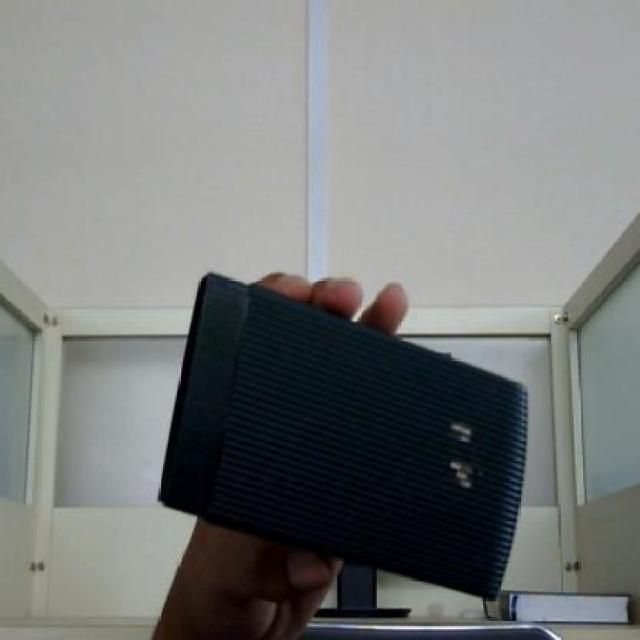Plastic: (158, 272, 529, 601)
